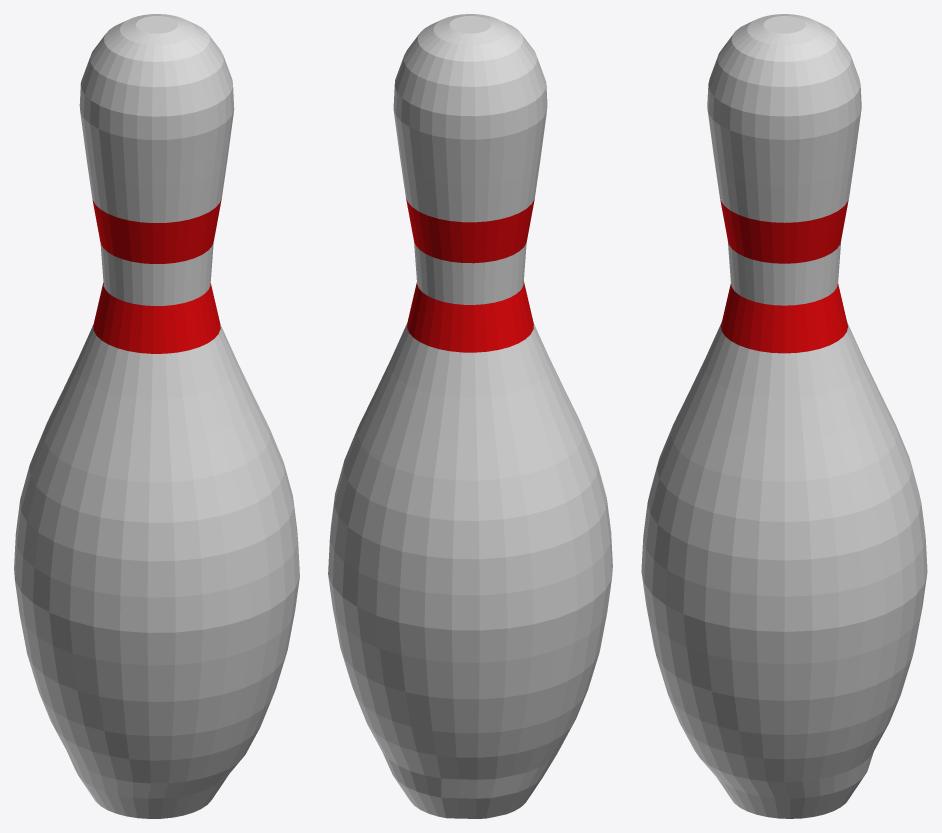
The model's file is Pin2.fbx.
3 renders of one model, left to right at view 1: azimuth 30°, elevation 25°; view 2: azimuth 150°, elevation 25°; view 3: azimuth 270°, elevation 25°, orthographic.
Parts seen in each view (by area): view 1: Cylinder; view 2: Cylinder; view 3: Cylinder.
Boxes of the visible parts, x1,y1,x2,y2 form: Cylinder: (14, 14, 299, 818); Cylinder: (328, 14, 612, 818); Cylinder: (641, 14, 927, 818).
Bounding box in the file's own units: 108 × 320 × 108.
